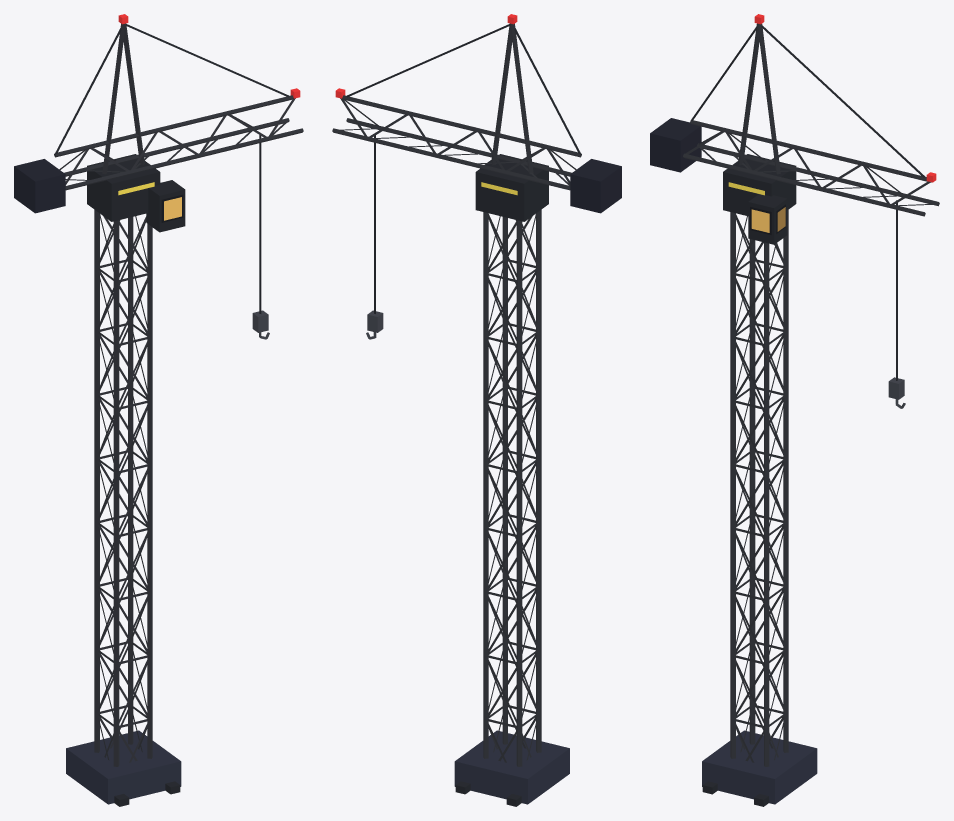
File: mc-construction_crane.glb
3 renders of one model, left to right at view 1: azimuth 30°, elevation 25°; view 2: azimuth 150°, elevation 25°; view 3: azimuth 330°, elevation 25°, orthographic.
Parts seen in each view (by area): view 1: prop_construction_crane; view 2: prop_construction_crane; view 3: prop_construction_crane.
Part boxes in pixels (x1=…): prop_construction_crane: x1=14, y1=14, x2=303, y2=806; prop_construction_crane: x1=332, y1=14, x2=621, y2=806; prop_construction_crane: x1=650, y1=14, x2=939, y2=806.
Size of the model in its own units: 9 by 24 by 3.
Materials: 1 (1 with a texture image).
